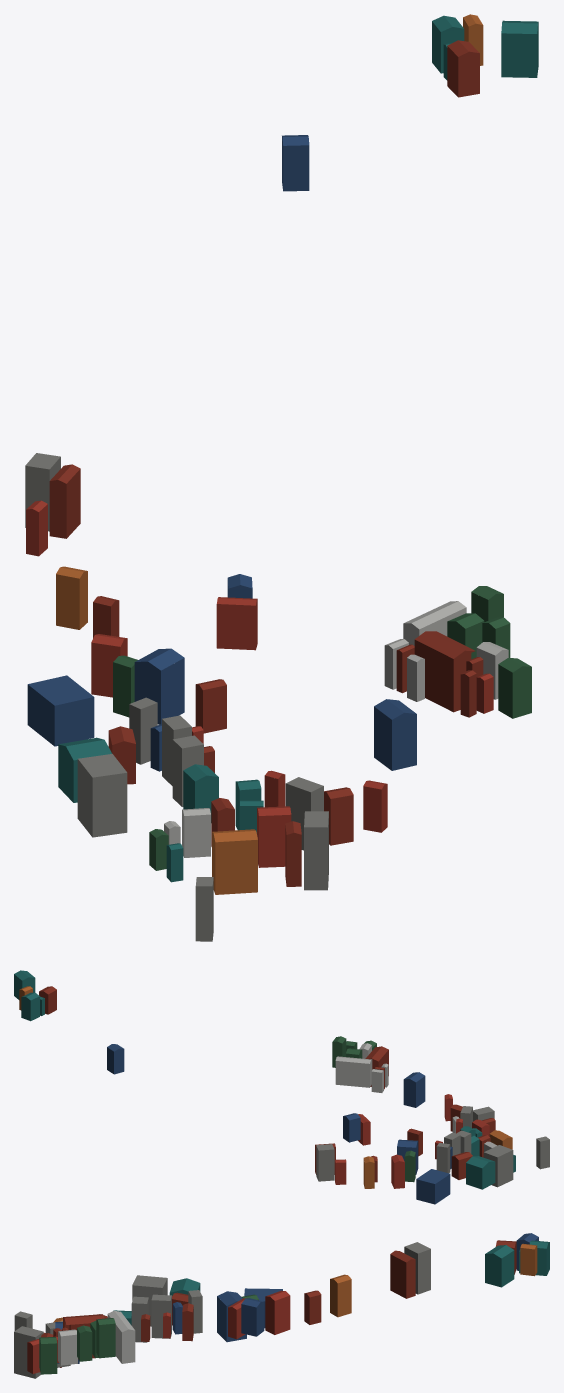
File: near-17-109428-59477.6eff11e5.glb
3 renders of one model, top to bottom at view 1: azimuth 30°, elevation 25°; view 2: azimuth 150°, elevation 25°; view 3: azimuth 270°, elevation 25°, orthographic. The views are drawn at different scales.
Bounding box in the file's own units: 308 × 198 × 300.
